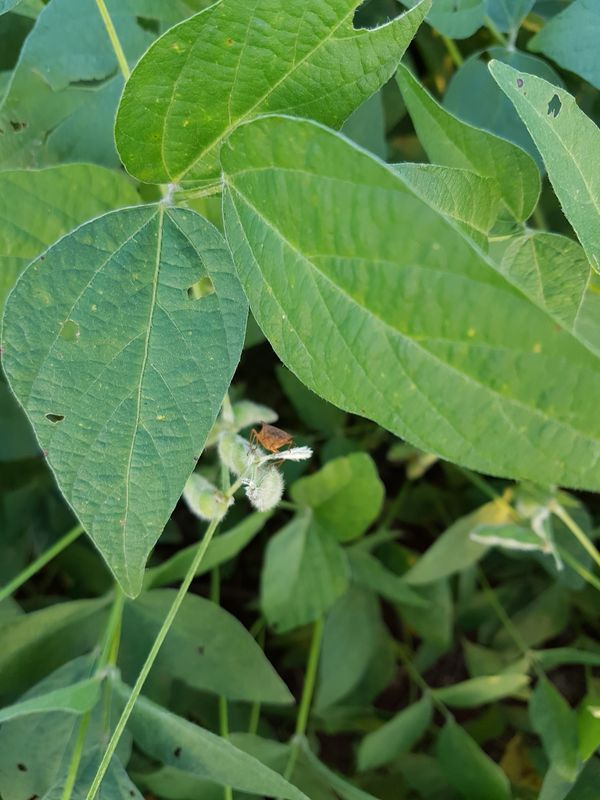Euschistus_heros_adulto: (238, 414, 303, 476)
